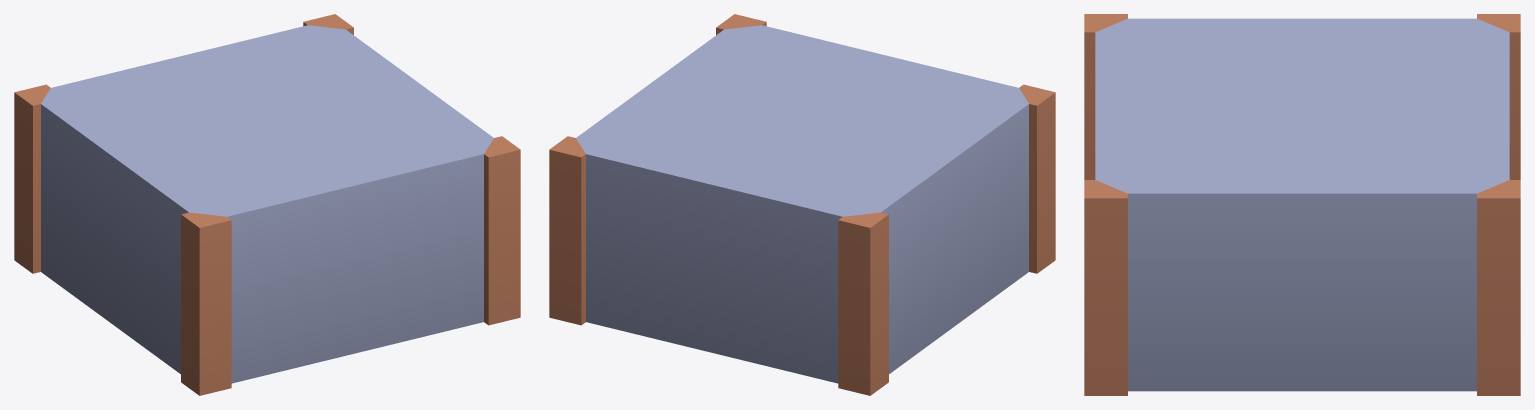
Rendered from wall-kn-wall-block-half.glb.
3 renders of one model, left to right at view 1: azimuth 30°, elevation 25°; view 2: azimuth 150°, elevation 25°; view 3: azimuth 270°, elevation 25°, orthographic. The views are drawn at different scales.
Parts seen in each view (by area): view 1: wall-block-half; view 2: wall-block-half; view 3: wall-block-half.
Boxes of the visible parts, bbox=[...] form: wall-block-half: bbox=[14, 14, 520, 395]; wall-block-half: bbox=[549, 14, 1055, 395]; wall-block-half: bbox=[1084, 14, 1520, 395].
Size of the model in its own units: 3 by 1.5 by 3.
1 material, 1 textured.
